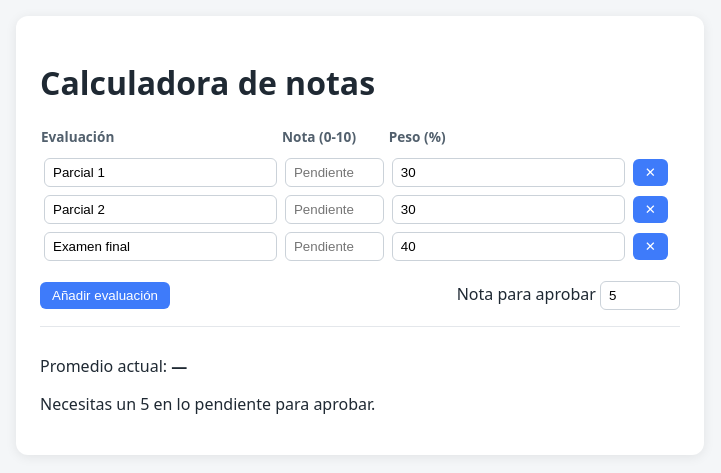
it: App › muestra un error con una nota fuera de rango
Type "12" into the 1st number field with placeholder "Pendiente".
click(334, 172); type("12")  # box [285,158,384,187]
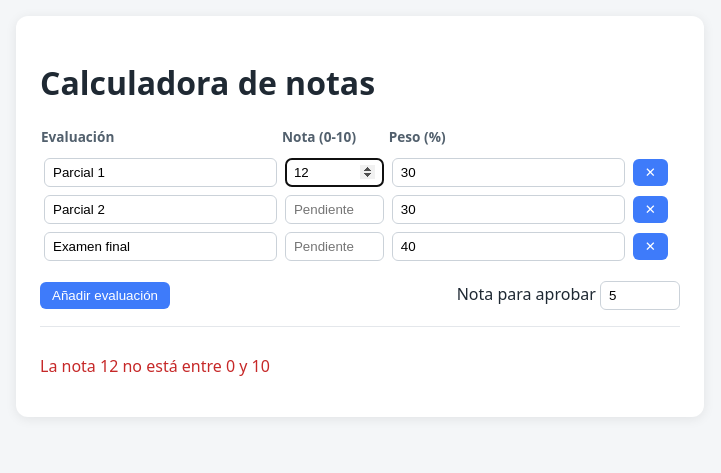
Check: the text "La nota 12 no está entre 0 y 10" is shown, box [40,355,270,377]
